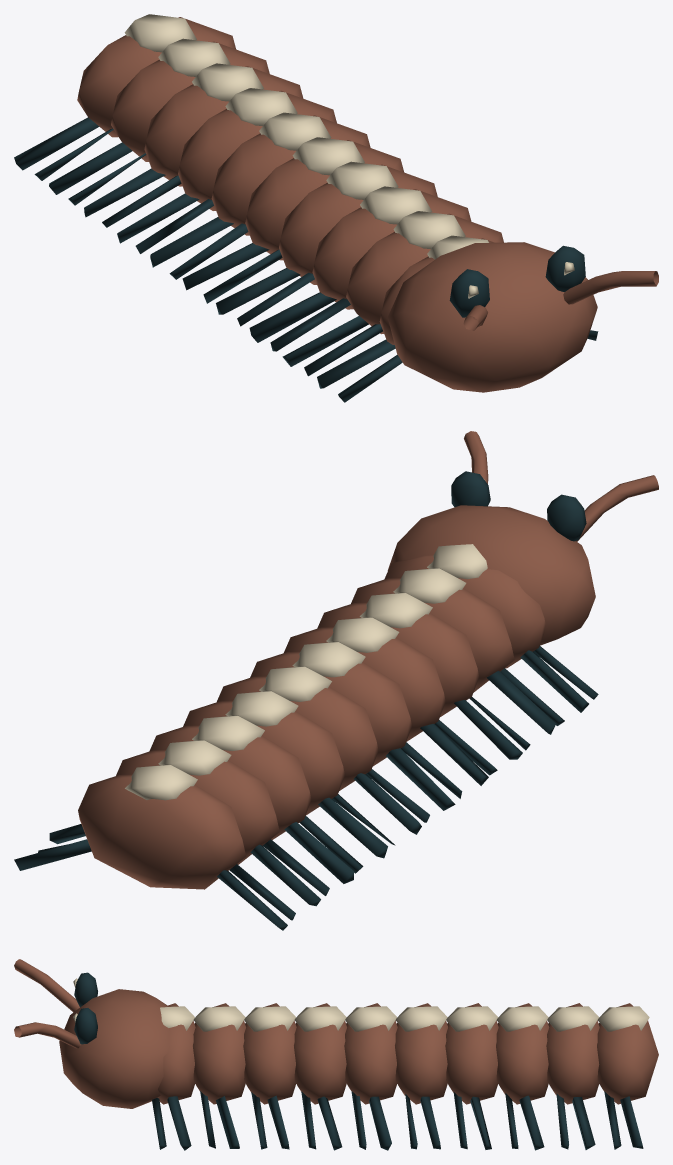
File: org_arthropleura.glb
3 views of the same model, one above another, from view 1: azimuth 30°, elevation 25°; view 2: azimuth 150°, elevation 25°; view 3: azimuth 270°, elevation 25° (orthographic). The views are drawn at different scales.
Parts seen in each view (by area): view 1: Body, Head, Eye_R, Eye_L; view 2: Body, Head, Eye_L, Eye_R; view 3: Body, Head, Eye_R, Eye_L.
Part boxes in pixels (left/top/right/bottom): Body: left=14, top=14, right=598, bottom=402; Head: left=387, top=242, right=658, bottom=392; Eye_R: left=545, top=245, right=585, bottom=291; Eye_L: left=449, top=269, right=489, bottom=317; Body: left=14, top=544, right=598, bottom=930; Head: left=387, top=431, right=658, bottom=645; Eye_L: left=547, top=494, right=586, bottom=541; Eye_R: left=451, top=471, right=490, bottom=507; Body: left=152, top=1003, right=658, bottom=1150; Head: left=14, top=959, right=169, bottom=1108; Eye_R: left=73, top=1008, right=97, bottom=1044; Eye_L: left=73, top=972, right=97, bottom=1007.
Bounding box in the file's own units: 0.9118 × 0.4819 × 2.49.
